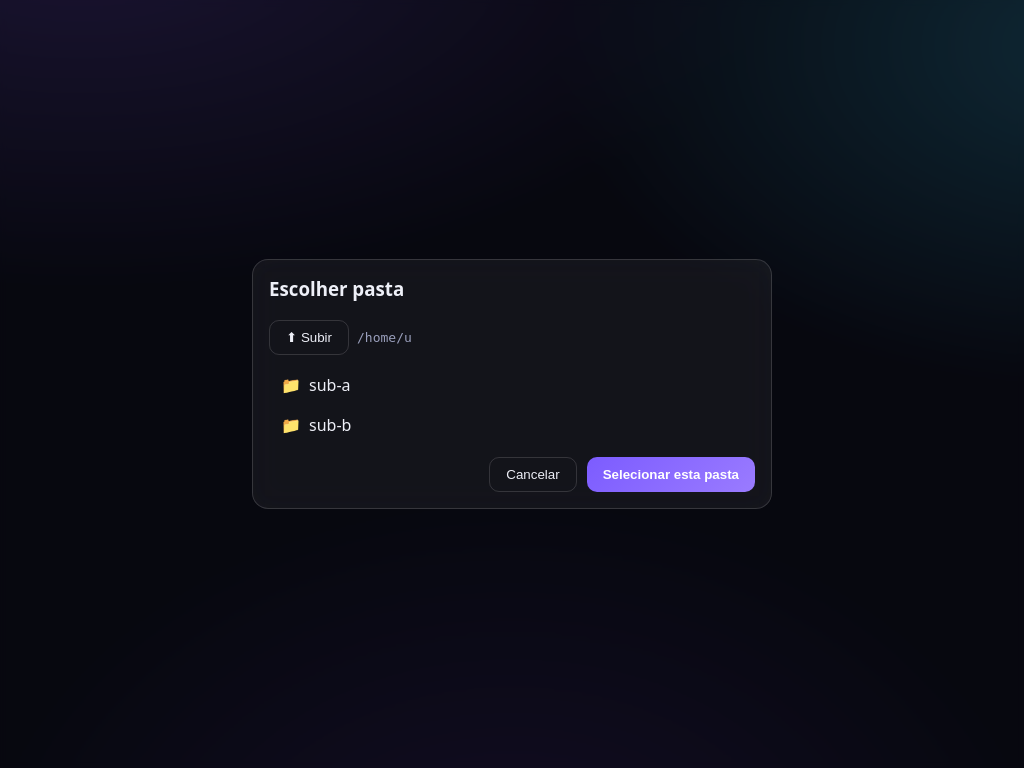
Test case: FolderPicker › clicar numa subpasta navega para ela
Click the text "sub-a": (330, 385) [309,374,350,396]
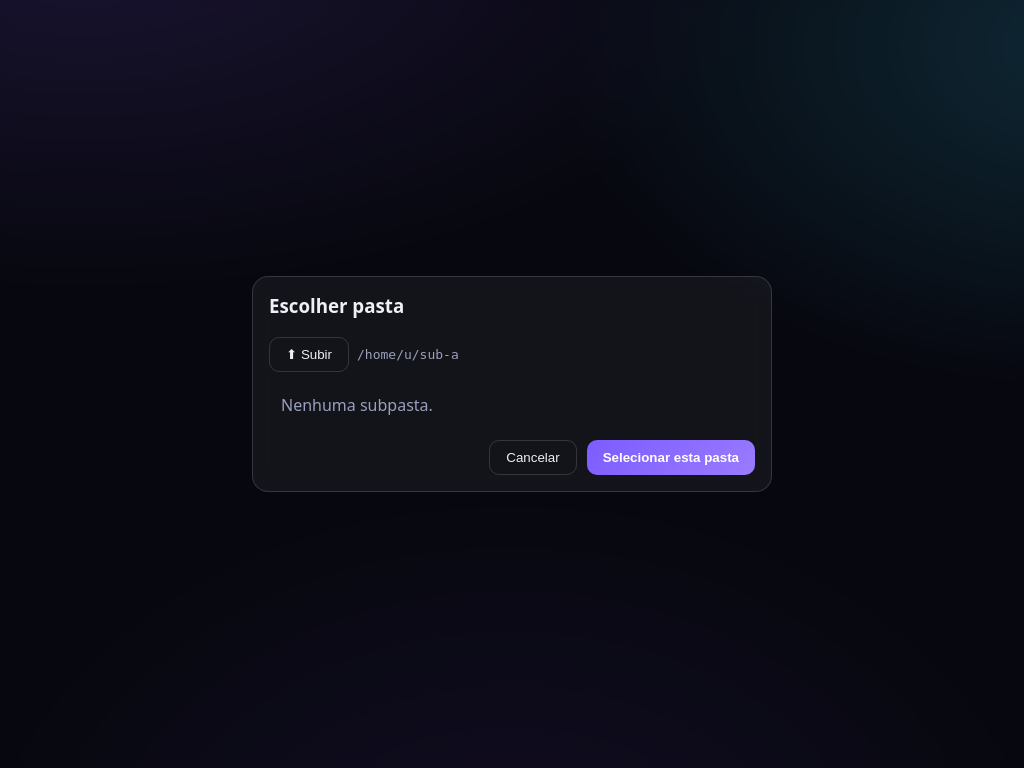
Expected: the text "/home/u/sub-a" is shown, [357,347,459,362]
